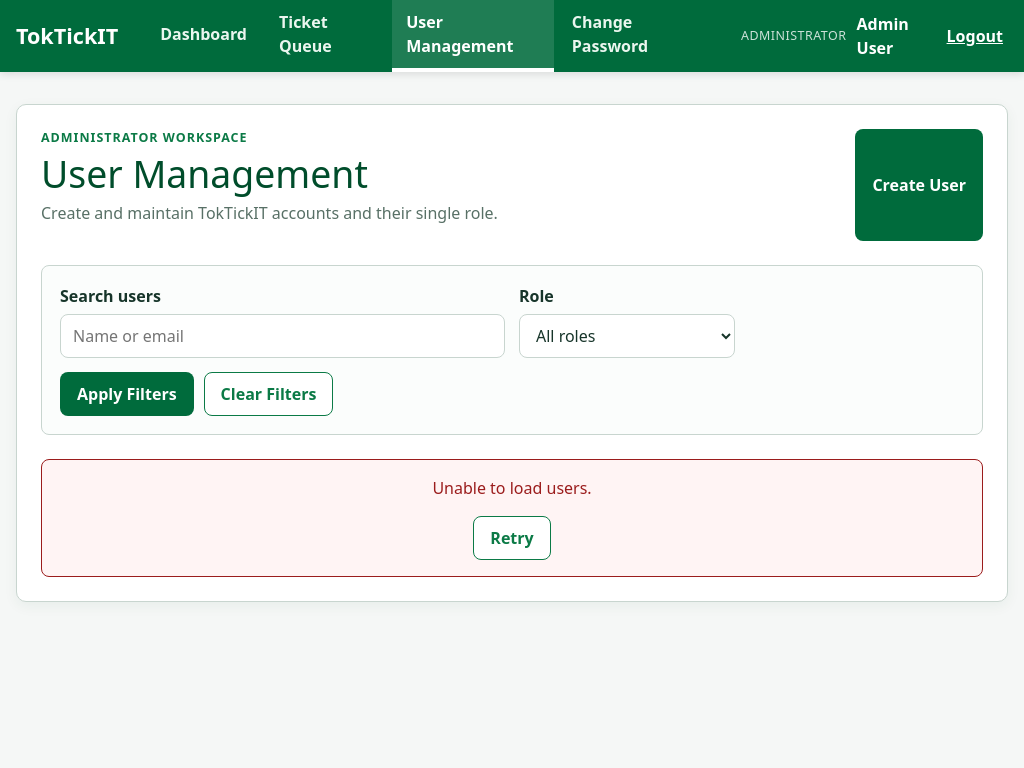
it: Administrator User Management › shows a safe list failure and retries without exposing backend details
Check: the message shows "Unable to load users.", box [432,476,592,498]
Click the button "Retry" at [512, 538], box [473,516,551,560]
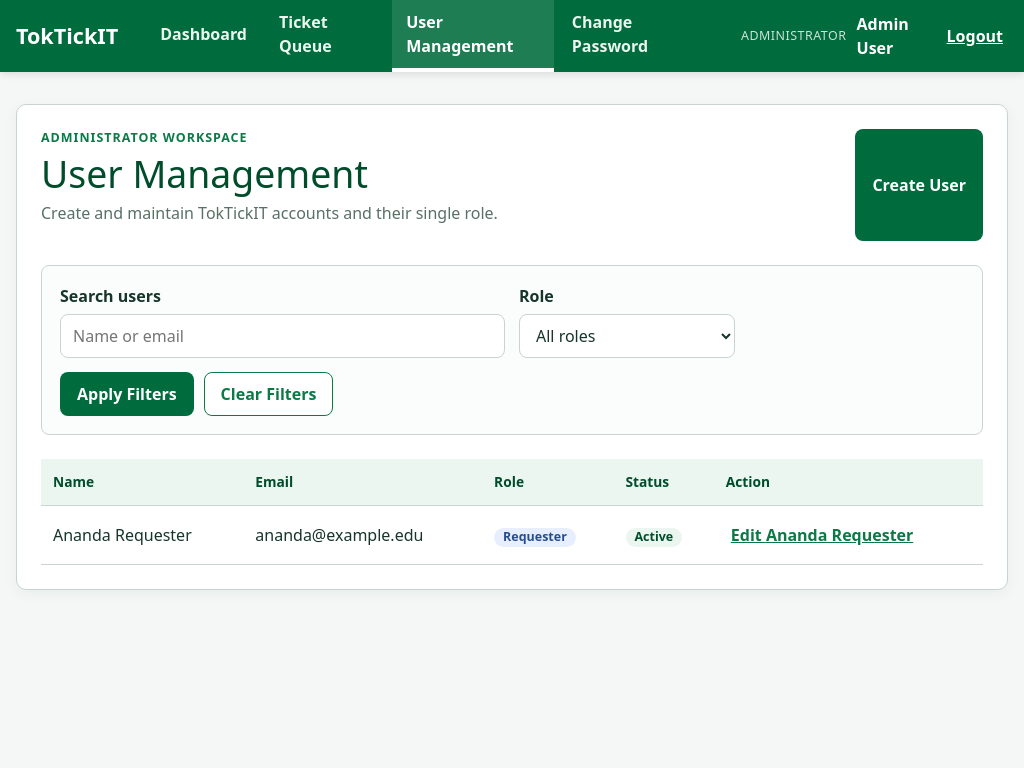
Check: the text "Ananda Requester" is shown, box [41,506,243,565]
